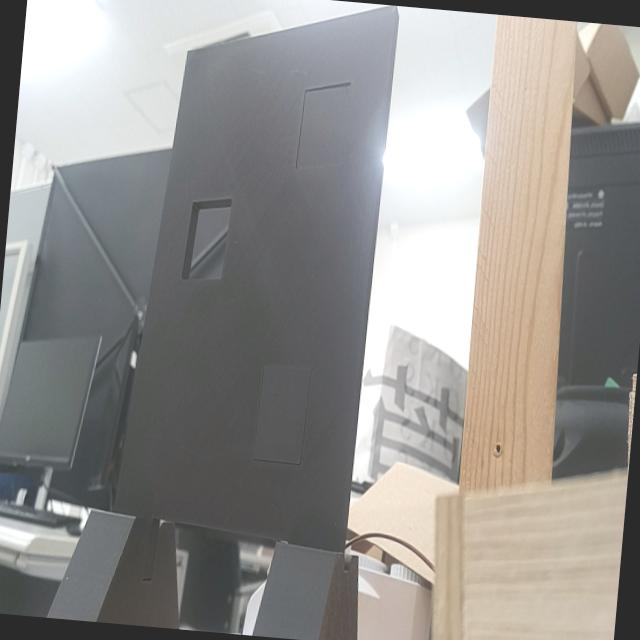Obstacle: (180, 199, 231, 280)
Wall: (113, 5, 394, 552)
